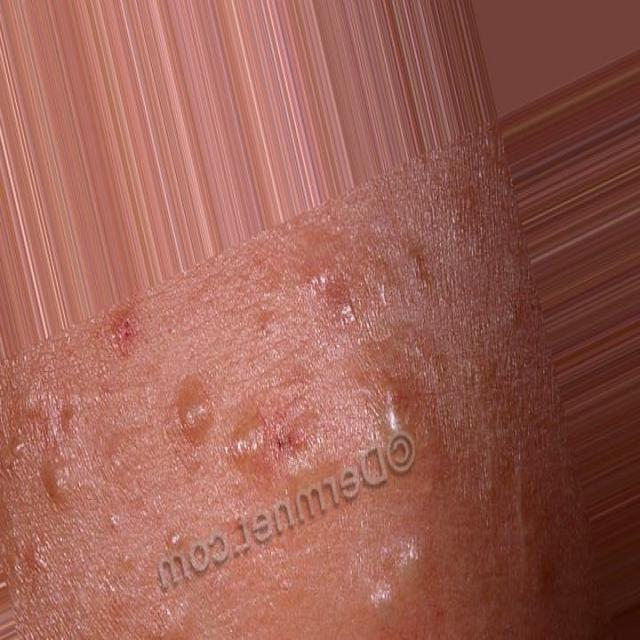acne: (297, 244, 383, 356), (228, 413, 326, 501), (20, 442, 96, 517), (174, 374, 240, 459), (384, 384, 430, 442)
